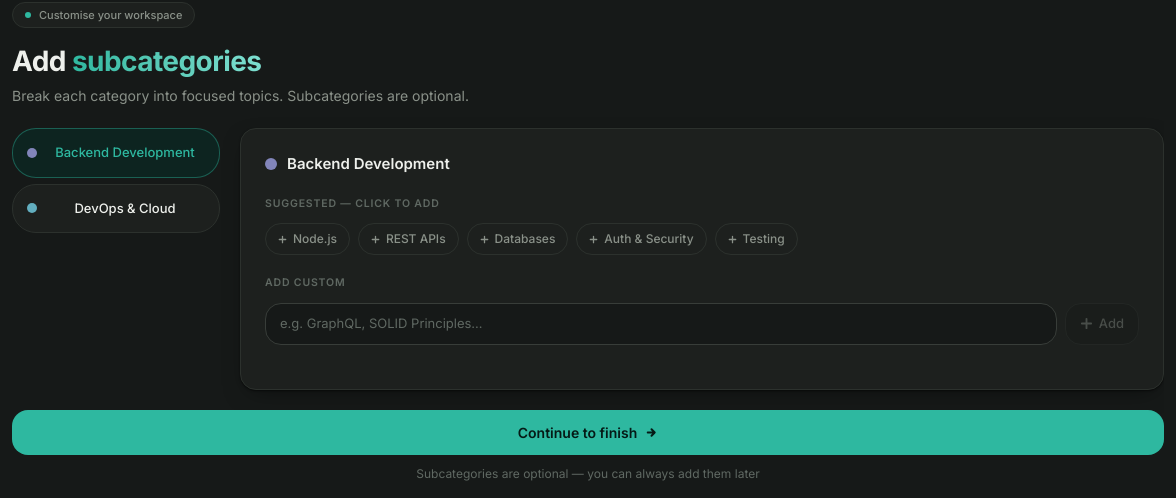
Test: OnboardingStep2 › switches active category when a different tab is clicked
The width and height of the screenshot is (1176, 498).
Step 1. Click the button "DevOps & Cloud" → (116,208), box [12,184,220,233]
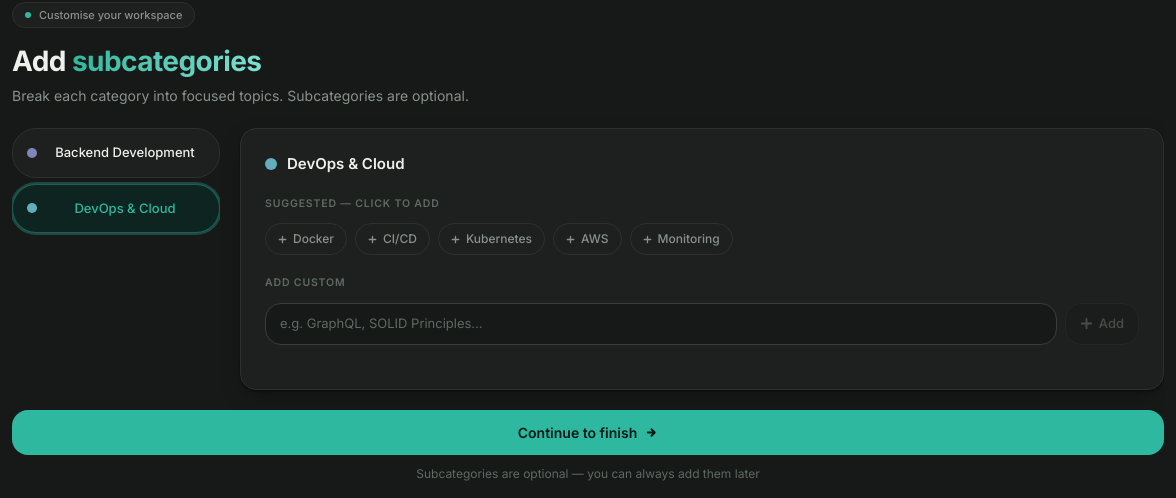
Expected: the button with aria-label "Add Docker" is shown, [265,223,347,255]
